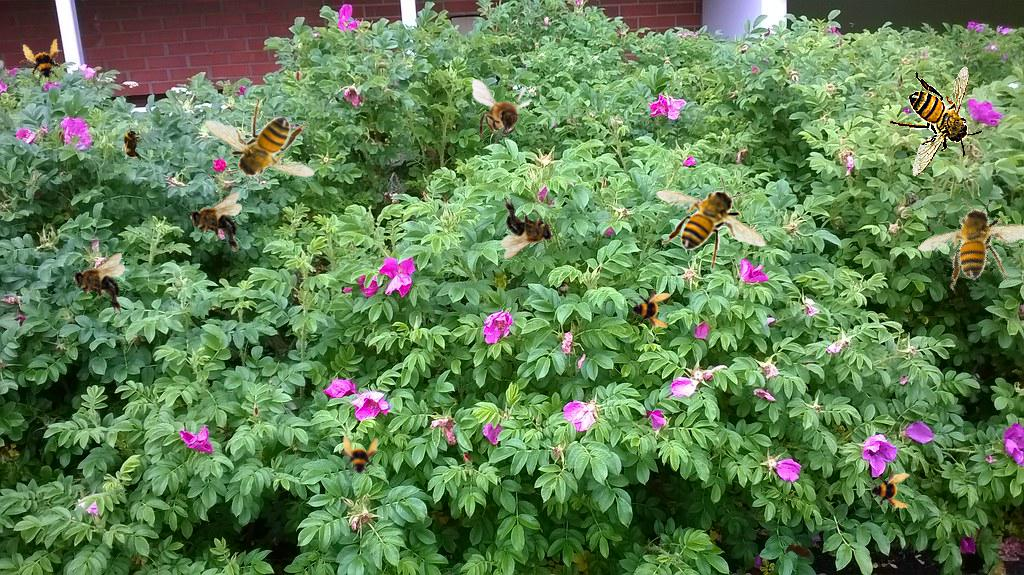Bee: (908, 173, 1024, 313), (656, 176, 767, 270), (204, 97, 315, 191), (889, 66, 983, 177), (472, 79, 533, 149), (189, 192, 242, 254), (501, 197, 554, 259), (72, 253, 125, 315), (15, 35, 69, 89), (865, 466, 911, 512), (336, 435, 380, 479), (627, 286, 671, 330), (776, 534, 822, 570), (121, 124, 143, 164)
